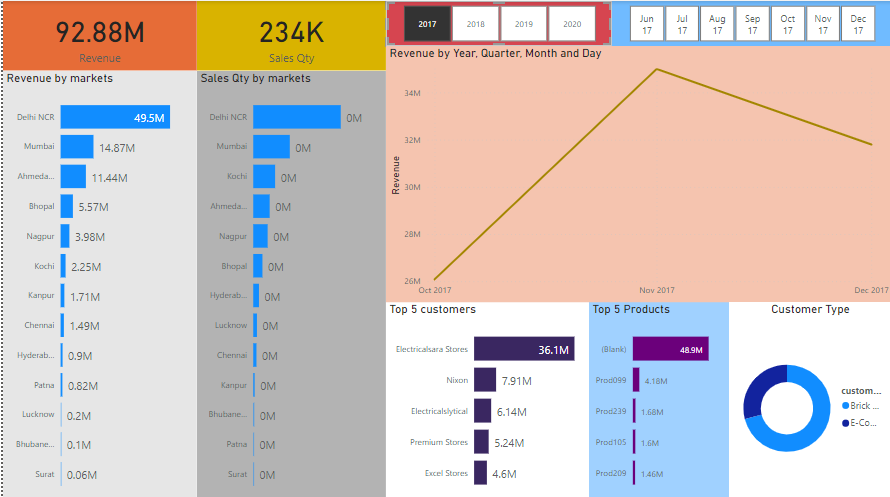

The page's visual inventory and layout, read from the dashboard file:
{"tool":"powerbi","page":{"name":"Sales_insight","canvas":[1280,720],"ordinal":0},"visuals":[{"type":"card","fields":{"Values":["BaseMeasures.Revenue"]},"box":[0,0,279.3,100.4],"z":0},{"type":"card","fields":{"Values":["BaseMeasures.Sales Qty"]},"box":[279.3,0,272,100.4],"z":1000},{"type":"barChart","title":"Revenue by markets","fields":{"Y":["BaseMeasures.Revenue"],"Category":["sales markets.markets_name"]},"box":[0,100.4,279.3,619.6],"z":2000},{"type":"barChart","title":"Sales Qty by markets","fields":{"Y":["BaseMeasures.Sales Qty"],"Category":["sales markets.markets_name"]},"box":[279.3,100.4,272,619.6],"z":3000},{"type":"slicer","fields":{"Values":["sales date.year"]},"box":[551.3,0,325.8,65.5],"z":4000},{"type":"slicer","fields":{"Values":["sales date.cy_date"]},"box":[877.1,0,402.9,65.5],"z":5000},{"type":"barChart","title":"Top 5 customers","fields":{"Y":["BaseMeasures.Revenue"],"Category":["sales customers.custmer_name"]},"box":[551.5,433.4,292.3,286.6],"z":6000},{"type":"barChart","title":"Top 5 Products","fields":{"Y":["BaseMeasures.Revenue"],"Category":["sales products.product_code"]},"box":[843.8,433.4,201.6,286.6],"z":7000},{"type":"lineChart","fields":{"Y":["BaseMeasures.Revenue"],"Category":["sales date.cy_date.Variation.Date Hierarchy.Year","sales date.cy_date.Variation.Date Hierarchy.Quarter","sales date.cy_date.Variation.Date Hierarchy.Month","sales date.cy_date.Variation.Date Hierarchy.Day"]},"box":[551.5,64.8,728.6,368.6],"z":8000},{"type":"donutChart","title":"Customer Type","fields":{"Category":["sales customers.customer_type"],"Y":["BaseMeasures.Revenue"]},"box":[1045.4,433.4,234.7,286.6],"z":8001}]}

Visuals, with their boxes in screenshot pixels (x1, y1, x2, y2), scaled from the page's 1280x720 canvas onto the 890x497 screenshot:
card - BaseMeasures.Revenue: left=0, top=0, right=194, bottom=69
card - BaseMeasures.Sales Qty: left=194, top=0, right=383, bottom=69
"Revenue by markets" barChart: left=0, top=69, right=194, bottom=496
"Sales Qty by markets" barChart: left=194, top=69, right=383, bottom=496
slicer - sales date.year: left=383, top=0, right=610, bottom=45
slicer - sales date.cy_date: left=610, top=0, right=889, bottom=45
"Top 5 customers" barChart: left=383, top=299, right=587, bottom=496
"Top 5 Products" barChart: left=587, top=299, right=727, bottom=496
lineChart - BaseMeasures.Revenue x sales date.cy_date.Variation.Date Hierarchy.Year: left=383, top=45, right=889, bottom=299
"Customer Type" donutChart: left=727, top=299, right=889, bottom=496
